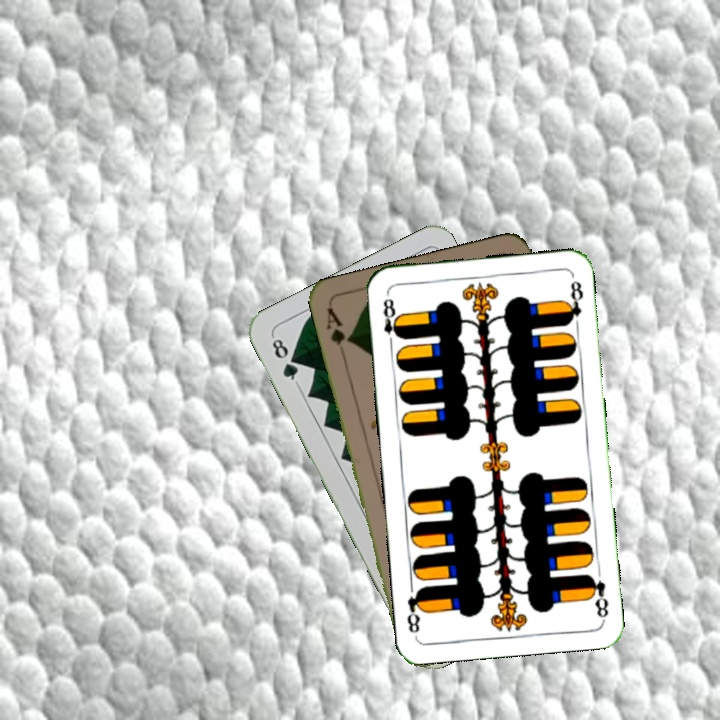E8: (378, 295, 404, 349), (584, 570, 611, 622)
G8: (267, 332, 301, 387)
GA: (322, 303, 354, 361)
